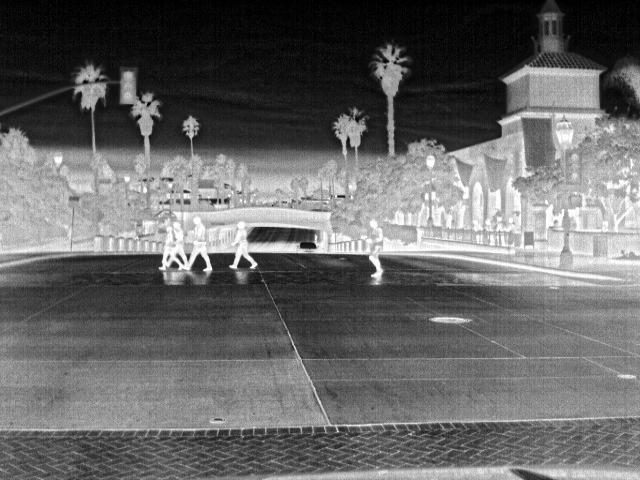car: (294, 240, 323, 254)
person: (181, 215, 214, 273), (158, 223, 190, 270), (230, 223, 261, 269), (364, 218, 384, 278), (503, 218, 519, 232), (495, 214, 507, 232), (471, 218, 485, 232), (484, 218, 496, 232)
